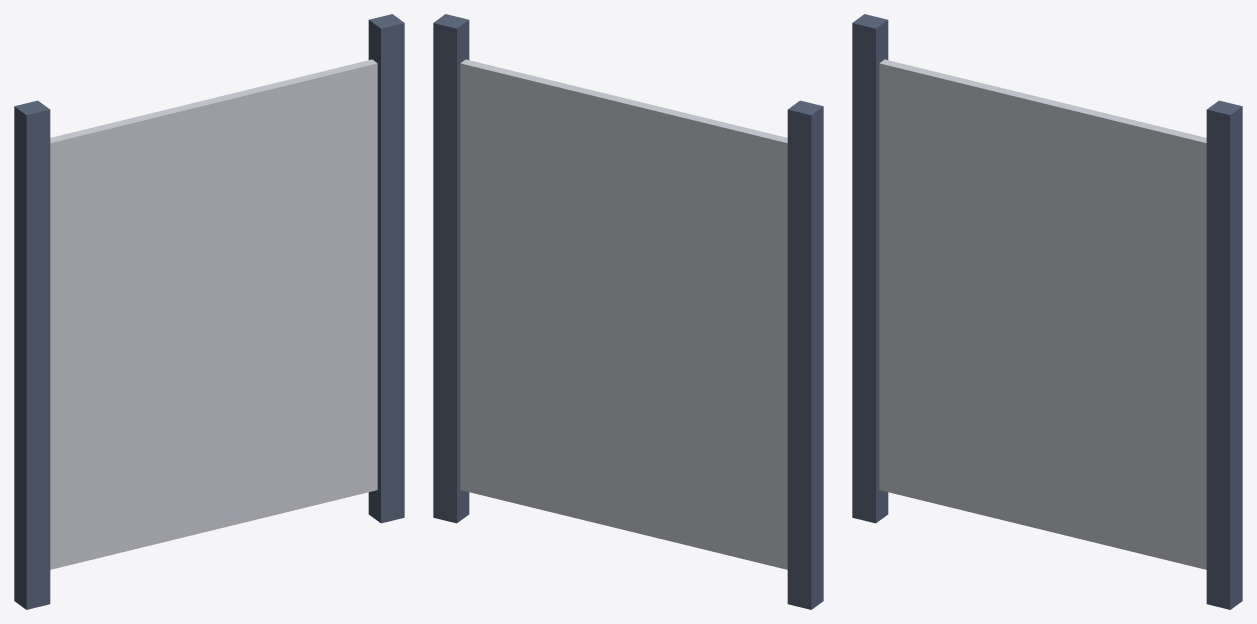
Rendered from standMin.glb.
3 views of the same model, side by side, from view 1: azimuth 30°, elevation 25°; view 2: azimuth 150°, elevation 25°; view 3: azimuth 330°, elevation 25° (orthographic).
Visible parts, largest first — view 1: mesh; view 2: mesh; view 3: mesh.
Boxes of the visible parts, left/top/right/bottom form: mesh: left=14, top=14, right=404, bottom=609; mesh: left=433, top=14, right=823, bottom=609; mesh: left=852, top=14, right=1242, bottom=609.
Size of the model in its own units: 3.2 by 4 by 0.18.
Materials: 1 (1 with a texture image).
